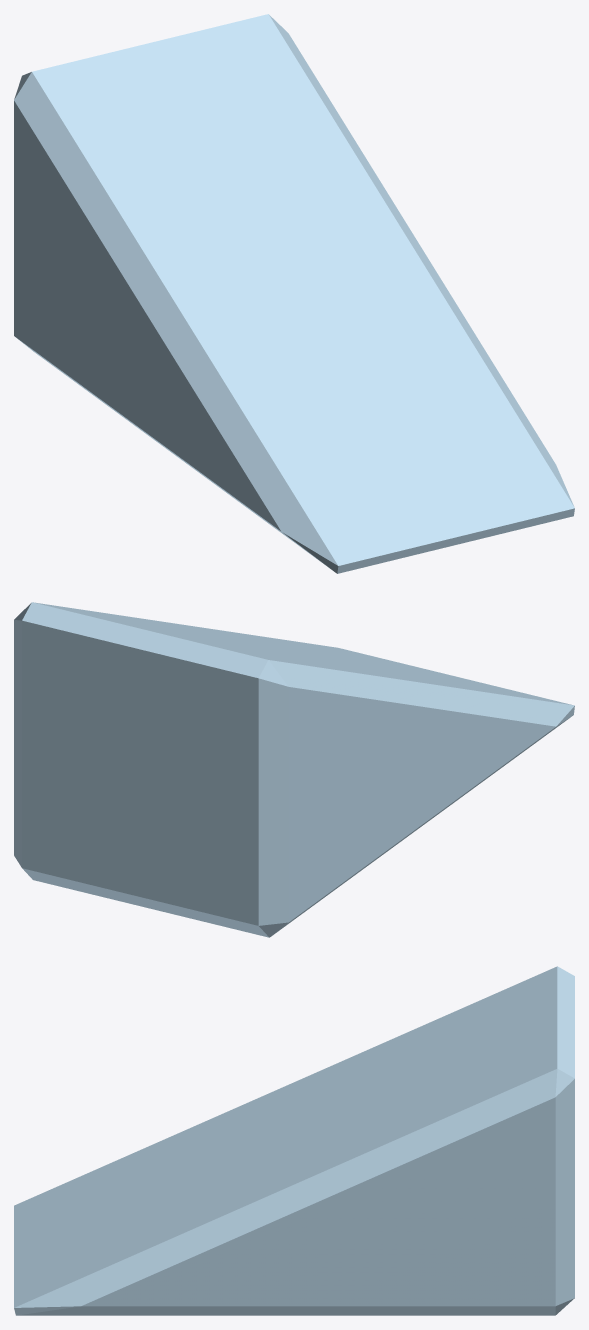
Rendered from R4B_LongWedge.glb.
The picture shows the model from 3 angles, top to bottom: view 1: azimuth 30°, elevation 25°; view 2: azimuth 150°, elevation 25°; view 3: azimuth 270°, elevation 25°; orthographic projection. The views are drawn at different scales.
Visible parts, largest first — view 1: R4B_LongWedge; view 2: R4B_LongWedge; view 3: R4B_LongWedge.
Part boxes in pixels (bbox=[...]): R4B_LongWedge: bbox=[14, 14, 574, 573]; R4B_LongWedge: bbox=[14, 602, 574, 937]; R4B_LongWedge: bbox=[14, 966, 574, 1315].
Bounding box in the file's own units: 0.52 × 0.5043 × 1.04.
